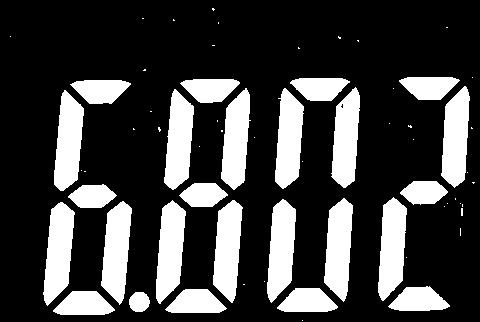0: (267, 77, 361, 313)
2: (377, 75, 470, 313)
6: (40, 79, 136, 320)
8: (155, 79, 251, 313)
dot: (129, 291, 151, 312)
